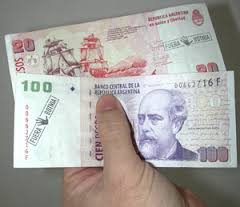billete: (4, 3, 227, 103), (13, 73, 238, 169)
